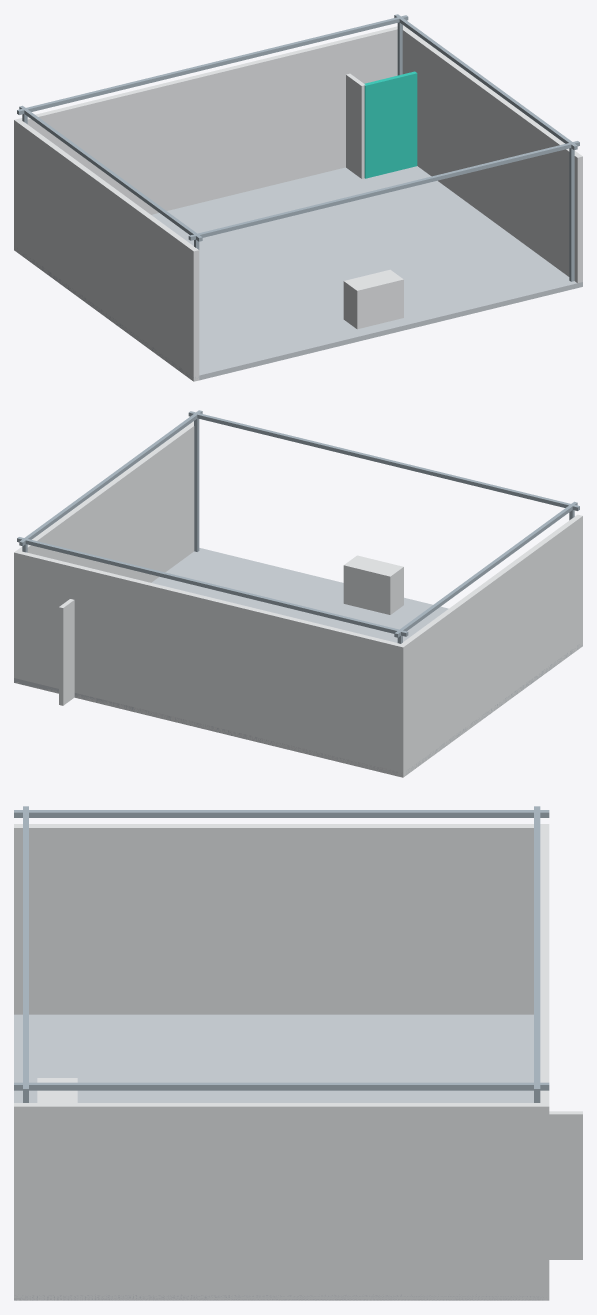
3 renders of one model, top to bottom at view 1: azimuth 30°, elevation 25°; view 2: azimuth 150°, elevation 25°; view 3: azimuth 270°, elevation 25°, orthographic. The views are drawn at different scales.
Parts seen in each view (by area): view 1: Exhibition Booth Concept; view 2: Exhibition Booth Concept; view 3: Exhibition Booth Concept.
Part boxes in pixels (x1,y1,x2,y2): Exhibition Booth Concept: (14, 14, 582, 381); Exhibition Booth Concept: (14, 410, 582, 777); Exhibition Booth Concept: (14, 806, 582, 1300).
Bounding box in the file's own units: 10 × 3.49 × 8.51.
